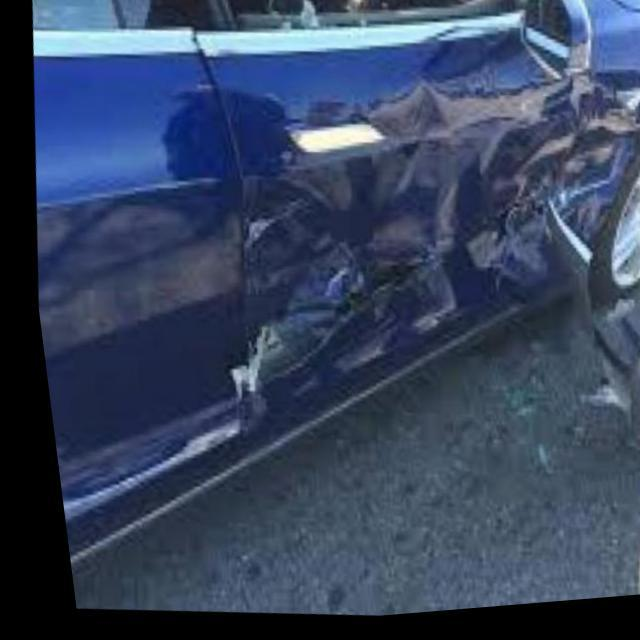dent: (222, 29, 640, 419)
